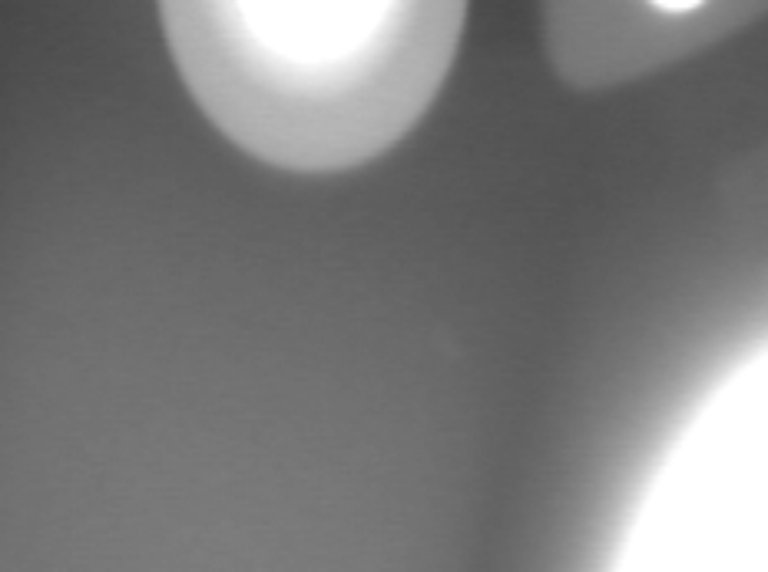defect: (450, 335, 487, 390)
